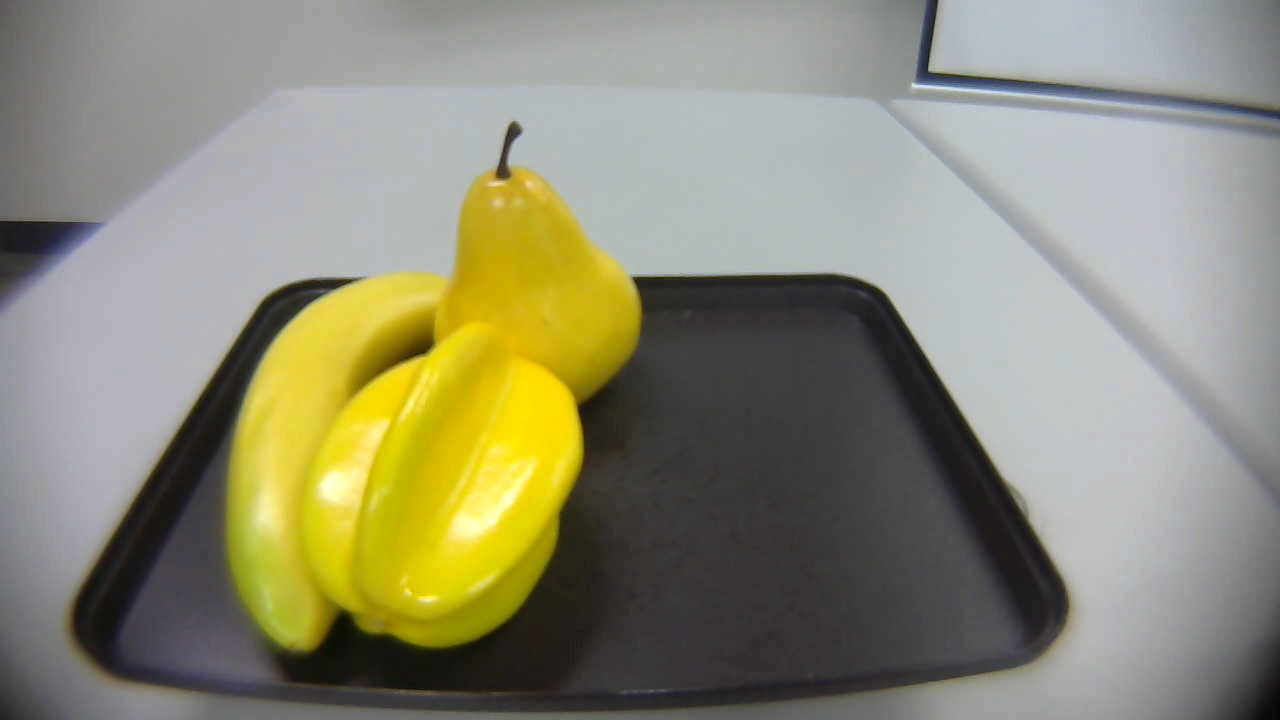banana: (199, 260, 447, 666)
star fruit: (309, 324, 591, 661)
yellow pear: (435, 122, 648, 409)
